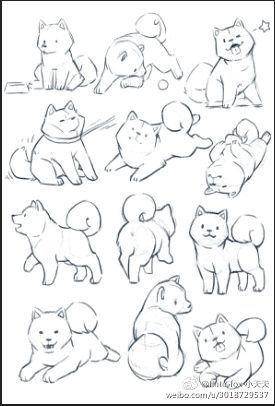adult_dog: (10, 198, 105, 288), (93, 11, 187, 95), (10, 100, 99, 188), (125, 274, 191, 383), (189, 205, 268, 296), (187, 18, 264, 110), (116, 192, 177, 286), (32, 17, 102, 94)
puppy-dog: (105, 100, 214, 185), (17, 300, 122, 386), (192, 313, 269, 390), (204, 119, 273, 198)
